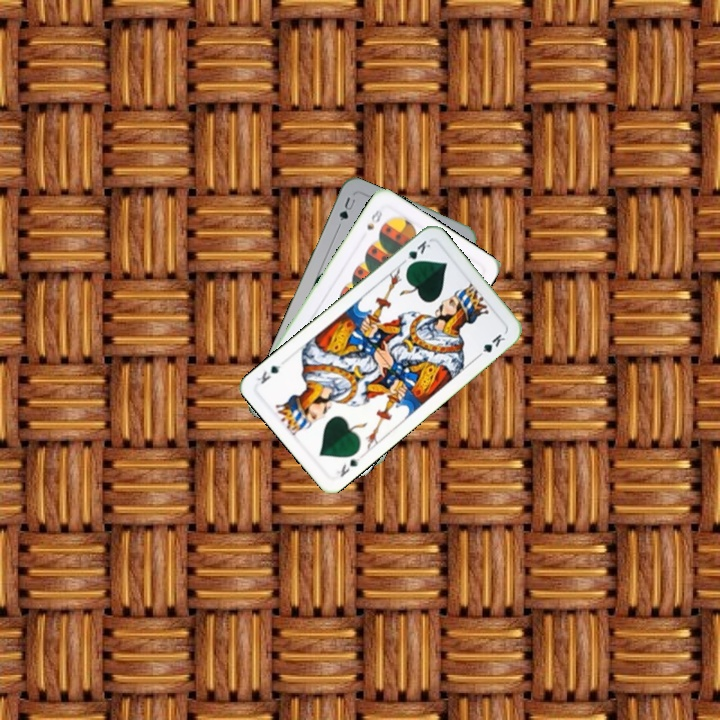GK: (402, 236, 433, 270), (332, 454, 363, 480)
GU: (335, 193, 358, 224)
S8: (363, 205, 385, 233)
